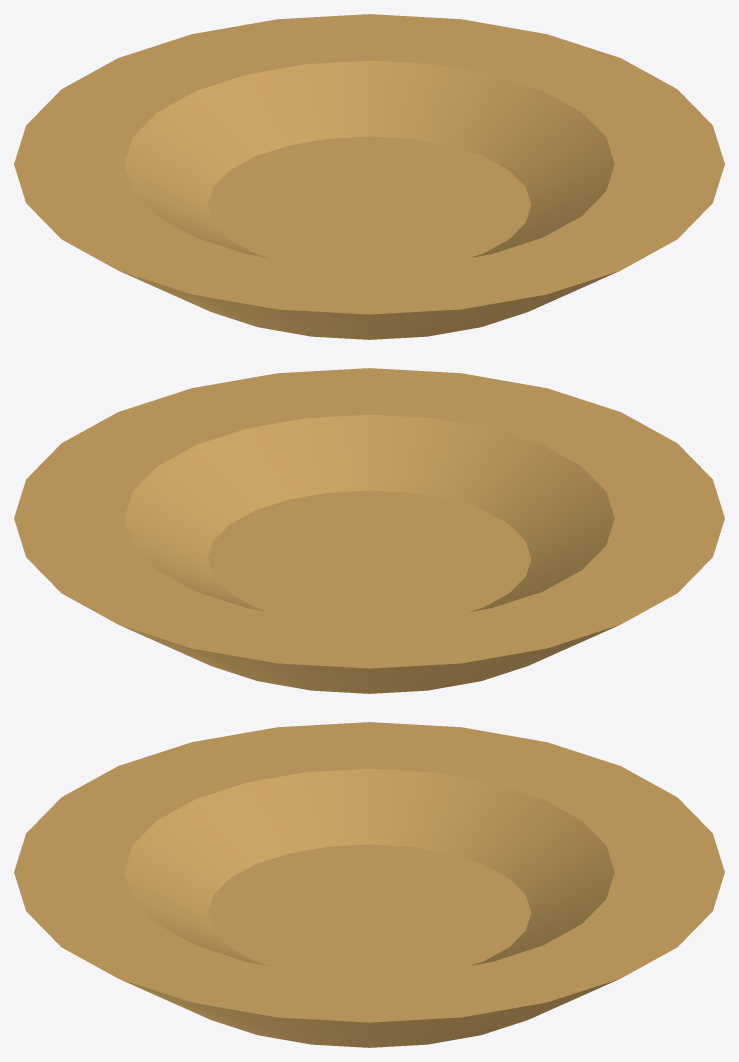
File: detailPlate.fbx
The picture shows the model from 3 angles, top to bottom: view 1: azimuth 30°, elevation 25°; view 2: azimuth 150°, elevation 25°; view 3: azimuth 270°, elevation 25°; orthographic projection.
Parts seen in each view (by area): view 1: detailPlate; view 2: detailPlate; view 3: detailPlate.
Part boxes in pixels (box(x1,y1,x2,y2)): detailPlate: box(14, 14, 724, 339); detailPlate: box(14, 368, 724, 693); detailPlate: box(14, 722, 724, 1047).
Size of the model in its own units: 2.13 by 0.268 by 2.13.
